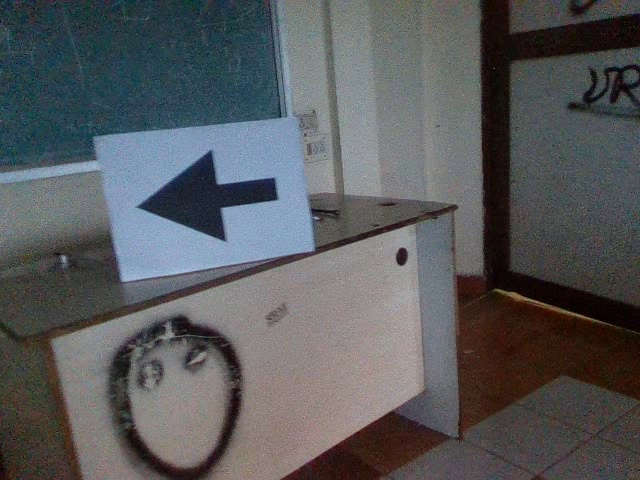Left: (128, 146, 279, 246)
